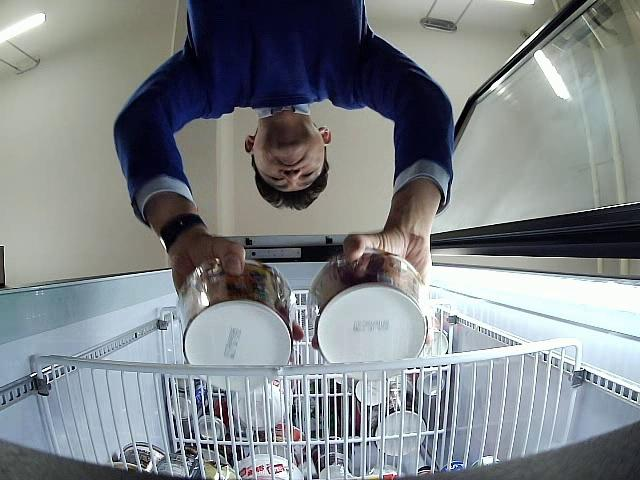00_hand: (312, 202, 438, 350), (169, 228, 304, 341)
05_nuguri_L: (310, 246, 431, 381), (177, 259, 296, 392)
